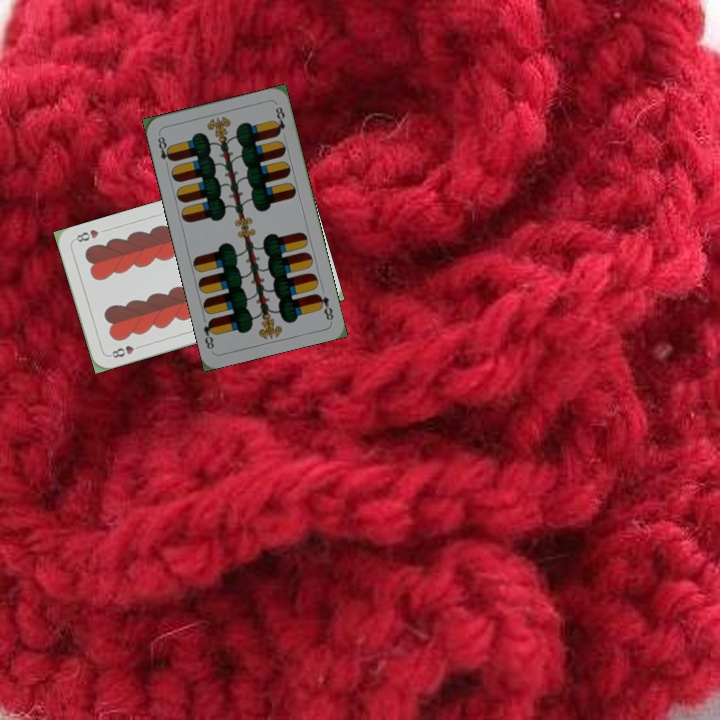E8: (153, 130, 175, 170), (312, 289, 336, 323)
H8: (105, 341, 145, 361)
